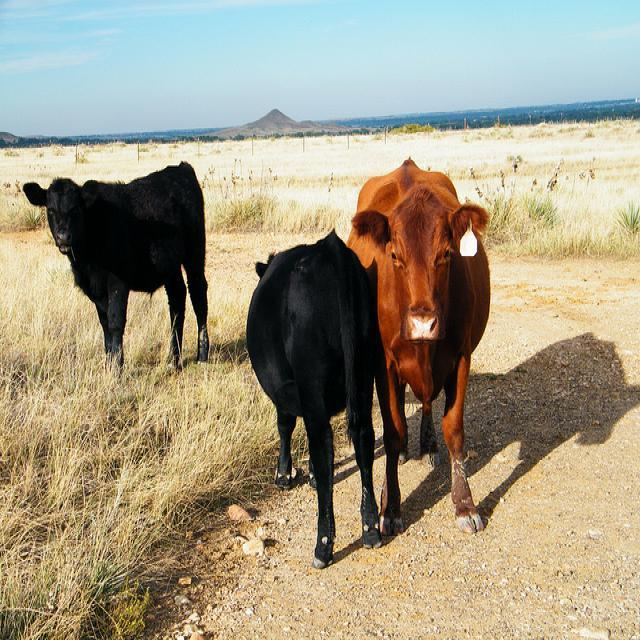cow: (345, 156, 489, 532), (250, 227, 406, 564), (21, 164, 208, 369)
